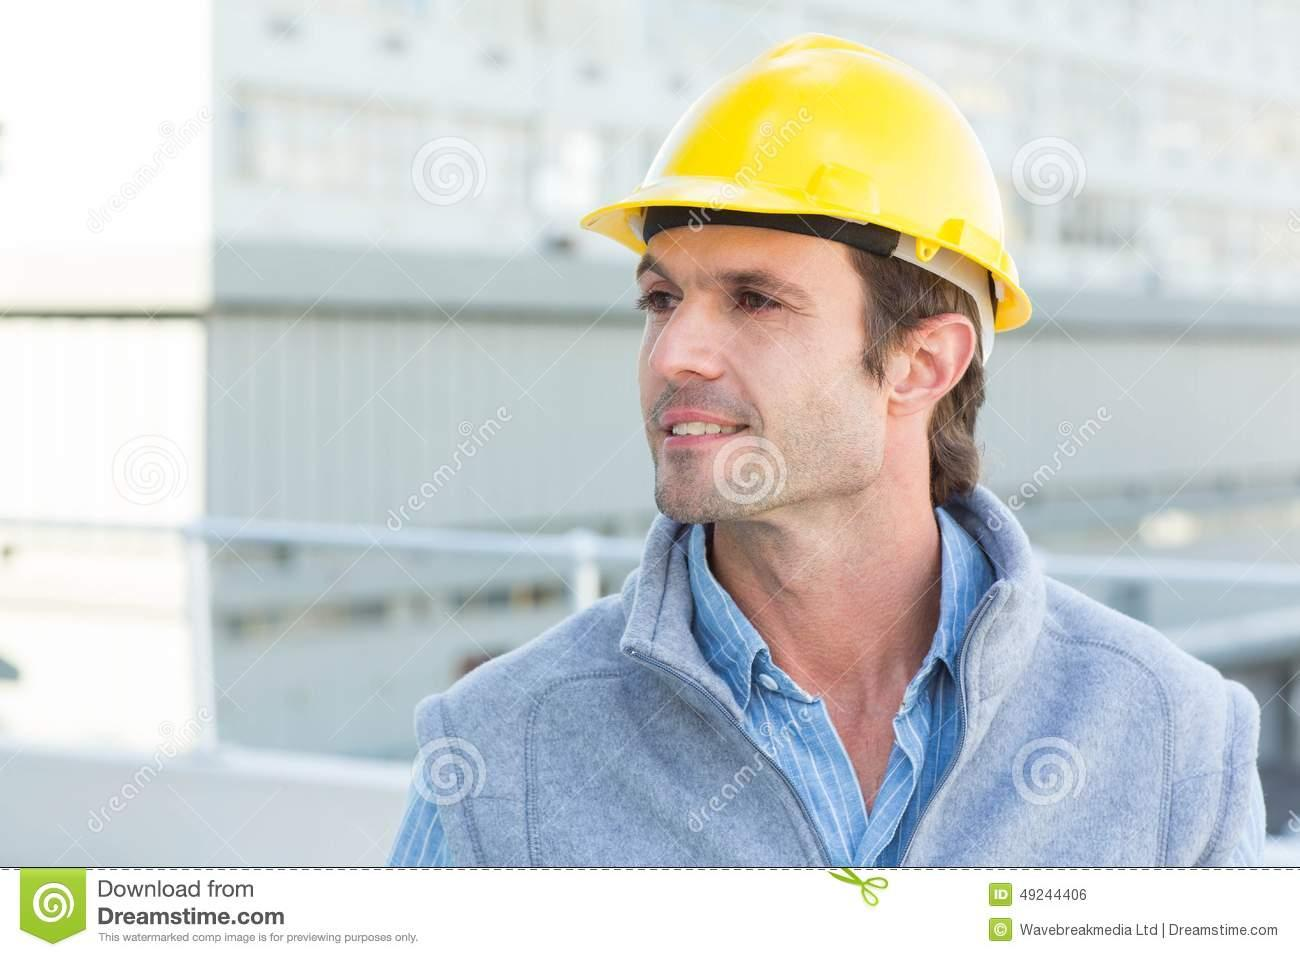helmet: (595, 29, 1049, 334)
